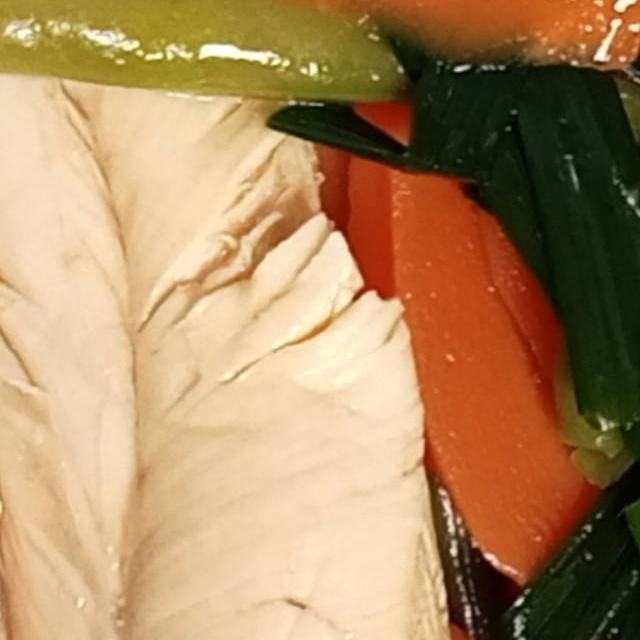thit ga: (0, 0, 481, 640)
